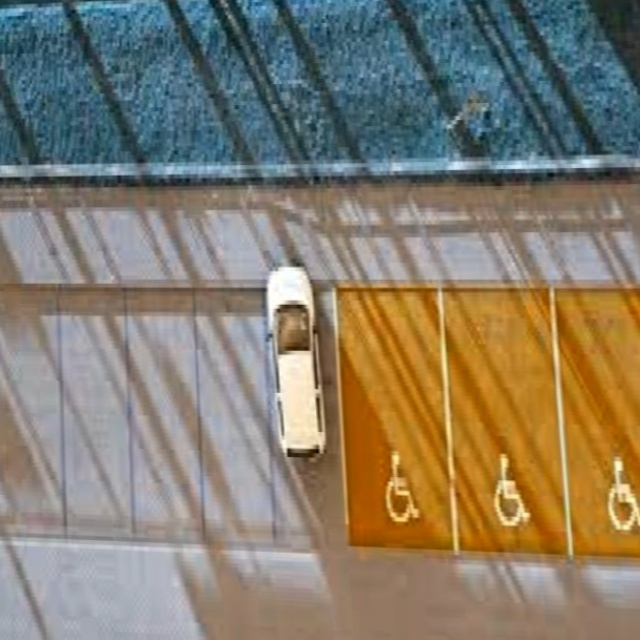ISA: (488, 454, 533, 529), (381, 450, 421, 523), (606, 458, 640, 534)
